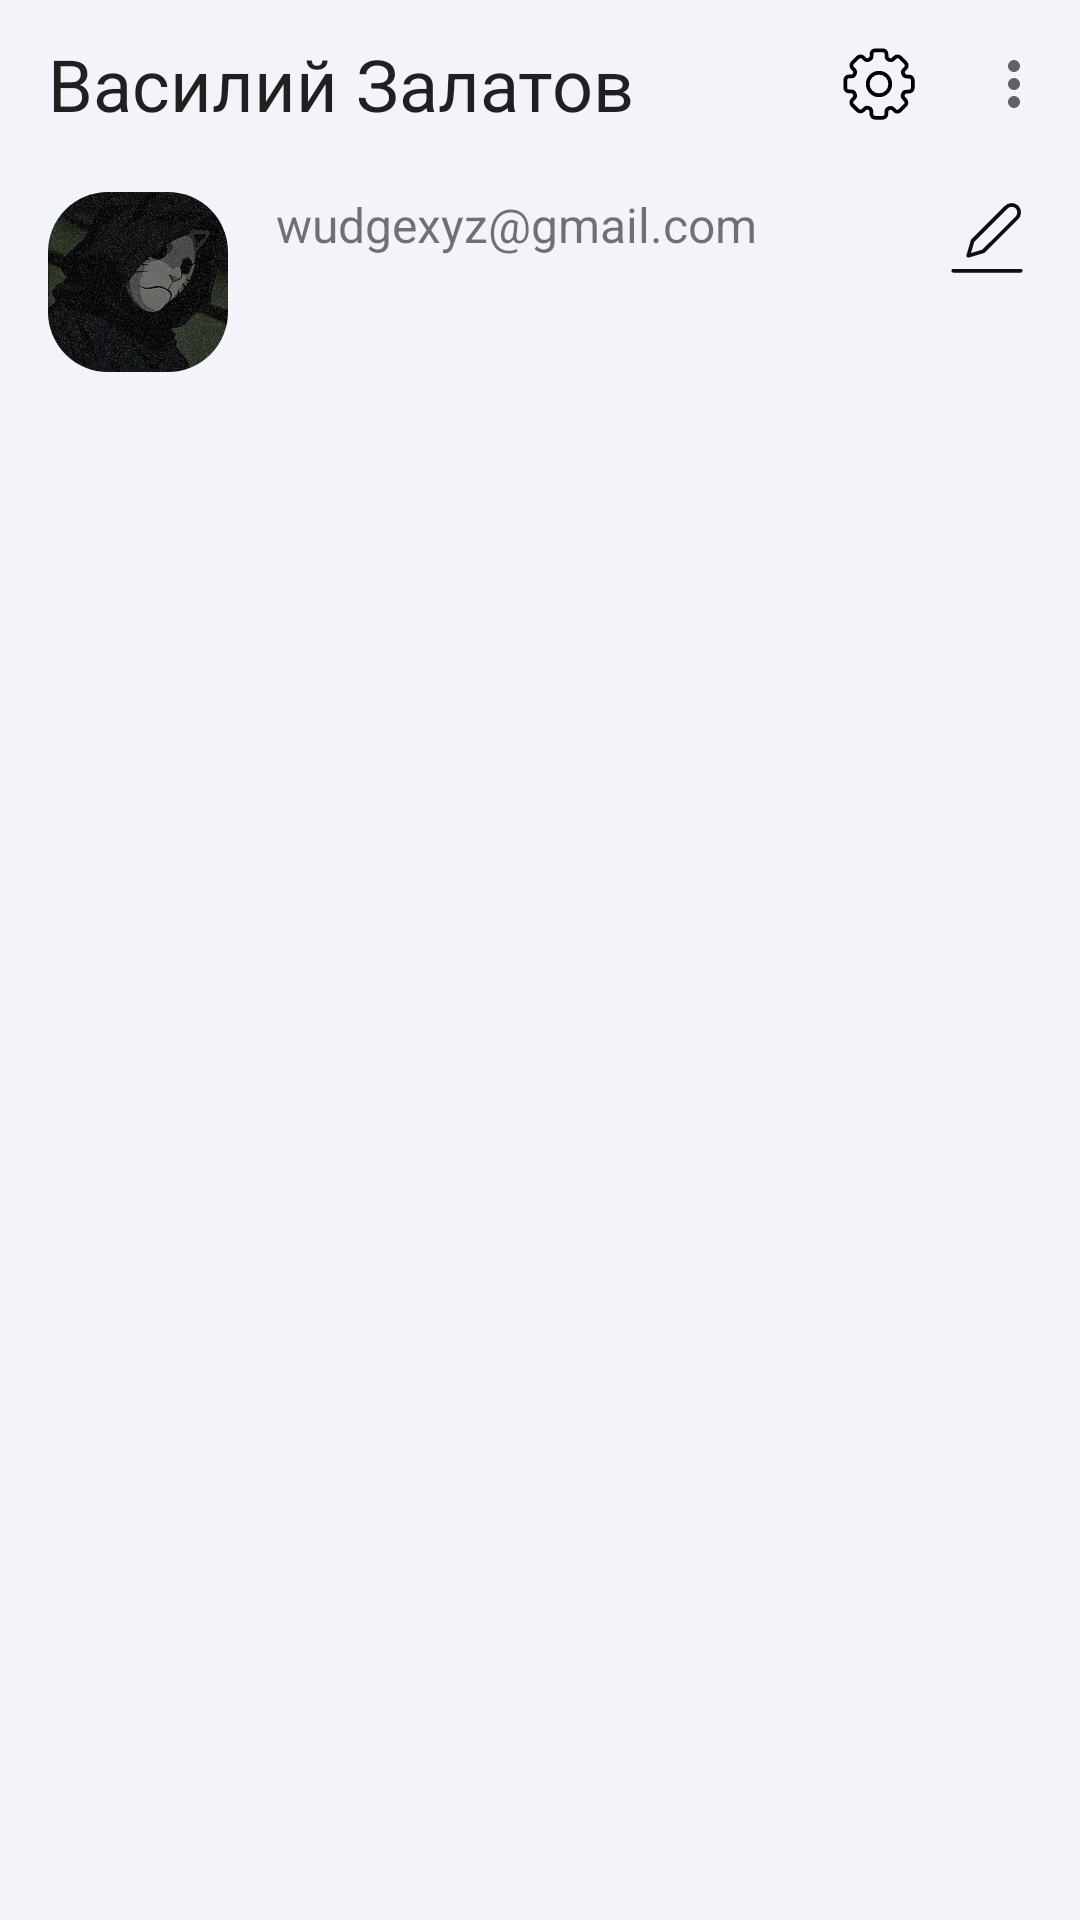

Locate icon controls on the screen. Image size 1080×1920, boxes as {"x1": x1, "y1": y1, "x2": x2, "y2": y2}.
avatarka: {"x1": 48, "y1": 192, "x2": 228, "y2": 372}
edit: {"x1": 951, "y1": 203, "x2": 1023, "y2": 273}
